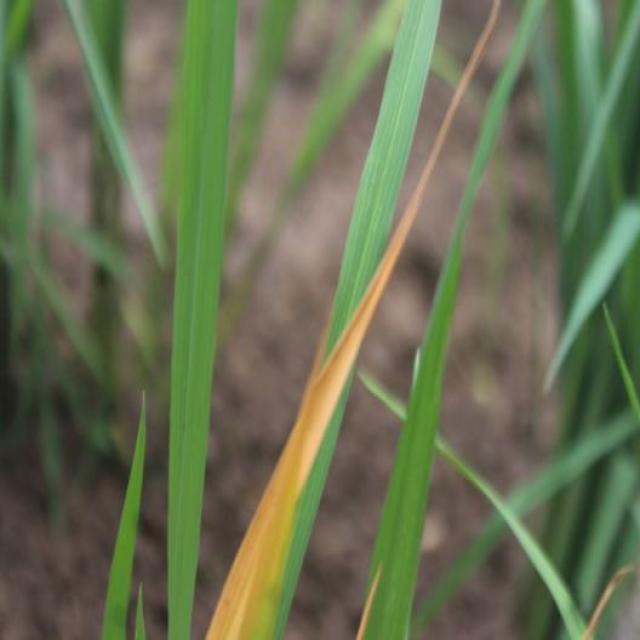Tungro: (225, 16, 420, 640)
